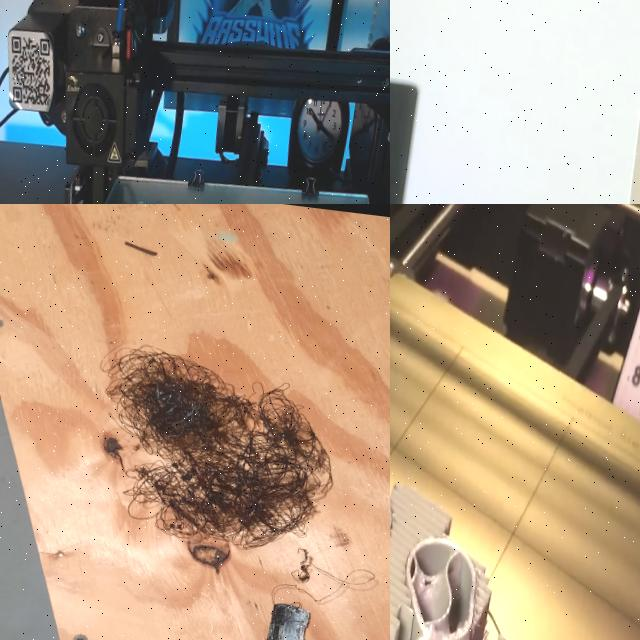spaghetti: (51, 336, 342, 586)
